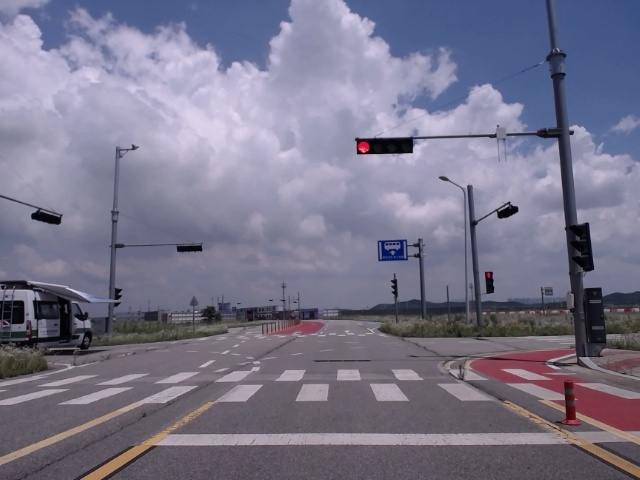red_4: (355, 137, 413, 154)
